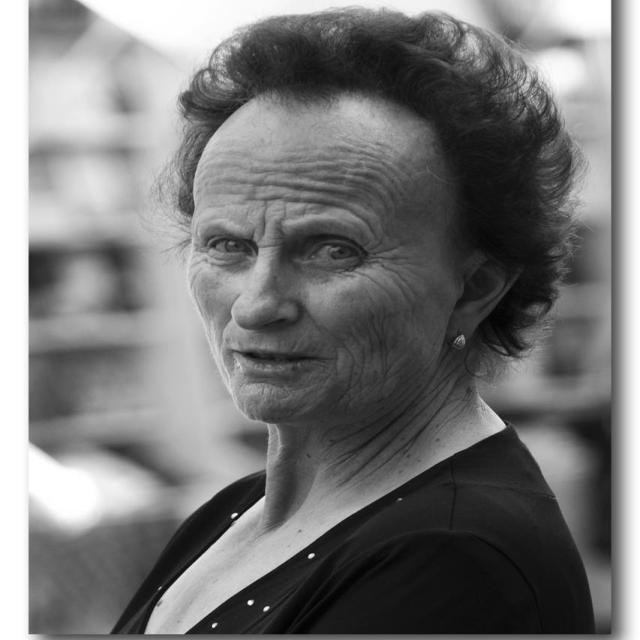no-glass: (202, 238, 371, 264)
